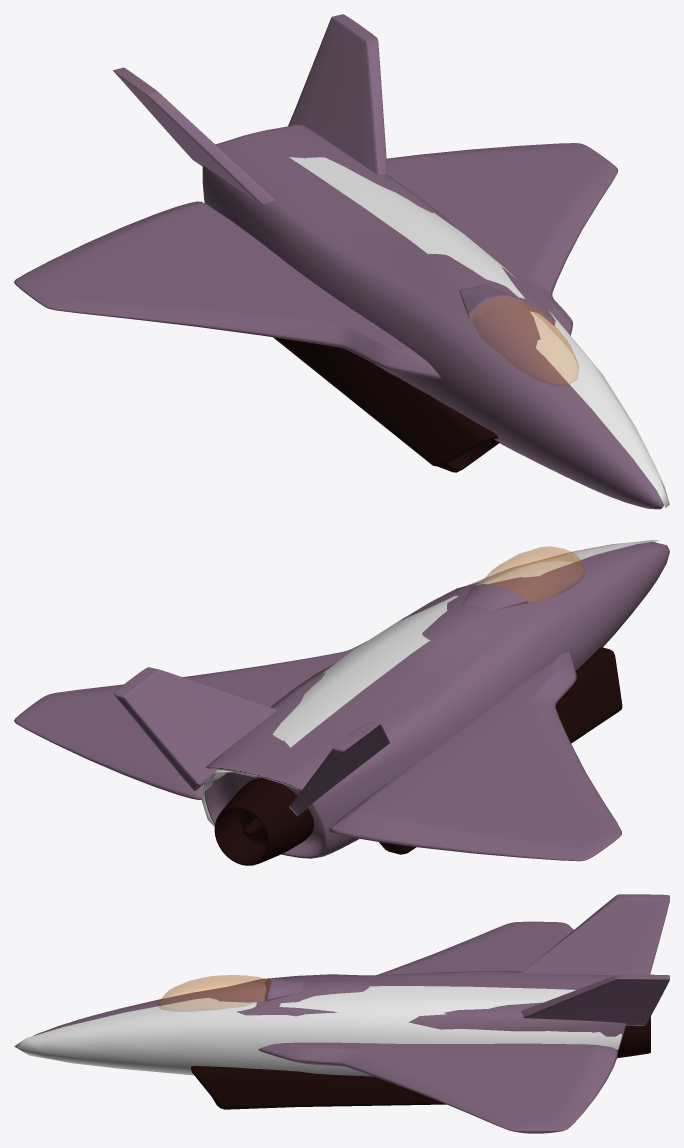
3 views of the same model, one above another, from view 1: azimuth 30°, elevation 25°; view 2: azimuth 150°, elevation 25°; view 3: azimuth 270°, elevation 25° (orthographic). The views are drawn at different scales.
Parts seen in each view (by area): view 1: Wings, Body, Ass, Cube, Intake, Cock, CockHolder; view 2: Wings, Body, Ass, Cube, Liftoff, Intake, Cock, CockHolder; view 3: Cube, Wings, Ass, Body, Intake, Cock, Liftoff, CockHolder.
Boxes of the visible parts, x1,y1,x2,y2 form: Wings: (14, 143, 617, 378); Body: (202, 124, 663, 509); Ass: (113, 14, 387, 205); Cube: (289, 157, 669, 507); Intake: (273, 337, 499, 472); Cock: (472, 297, 578, 385); CockHolder: (459, 284, 525, 319); Wings: (14, 641, 621, 861); Body: (204, 542, 669, 858); Ass: (113, 667, 389, 816); Cube: (201, 540, 660, 826); Liftoff: (214, 778, 314, 865); Intake: (379, 647, 622, 854); Cock: (479, 546, 584, 601); CockHolder: (462, 584, 528, 611); Cube: (14, 986, 624, 1076); Wings: (258, 921, 617, 1133); Ass: (521, 894, 669, 1025); Body: (33, 971, 626, 1036); Intake: (191, 1066, 446, 1109); Cock: (157, 975, 270, 1011); Liftoff: (617, 1016, 650, 1058); CockHolder: (264, 978, 303, 1001).
Bounding box in the file's own units: 11.89 × 3.88 × 15.73.
